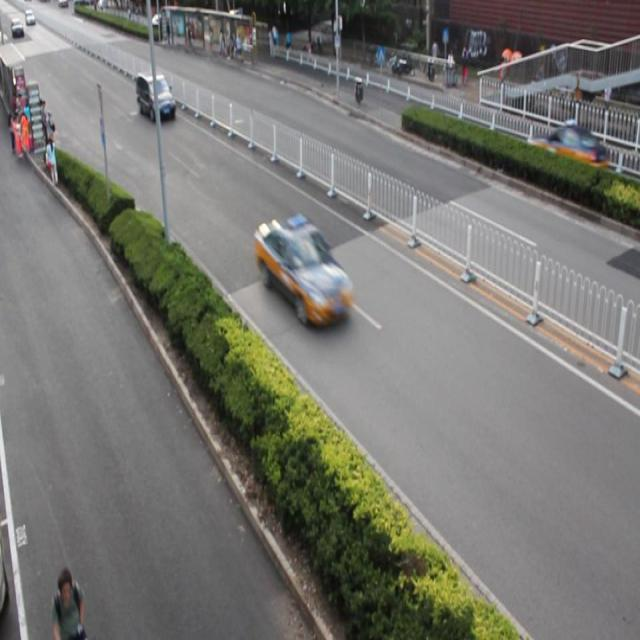car: (254, 213, 352, 329), (527, 118, 607, 179), (136, 72, 176, 126)
